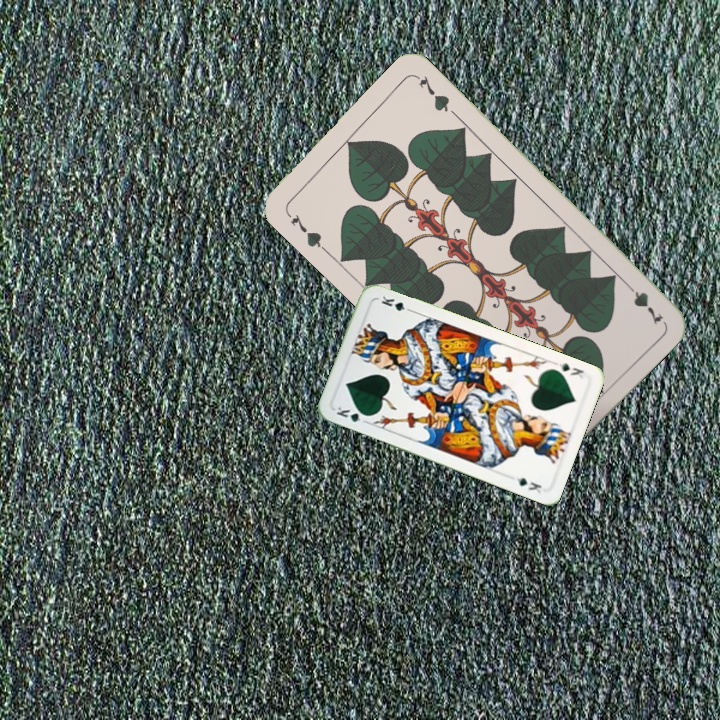G7: (619, 276, 666, 327), (282, 207, 329, 254)
GK: (332, 401, 372, 425), (553, 358, 586, 381)
